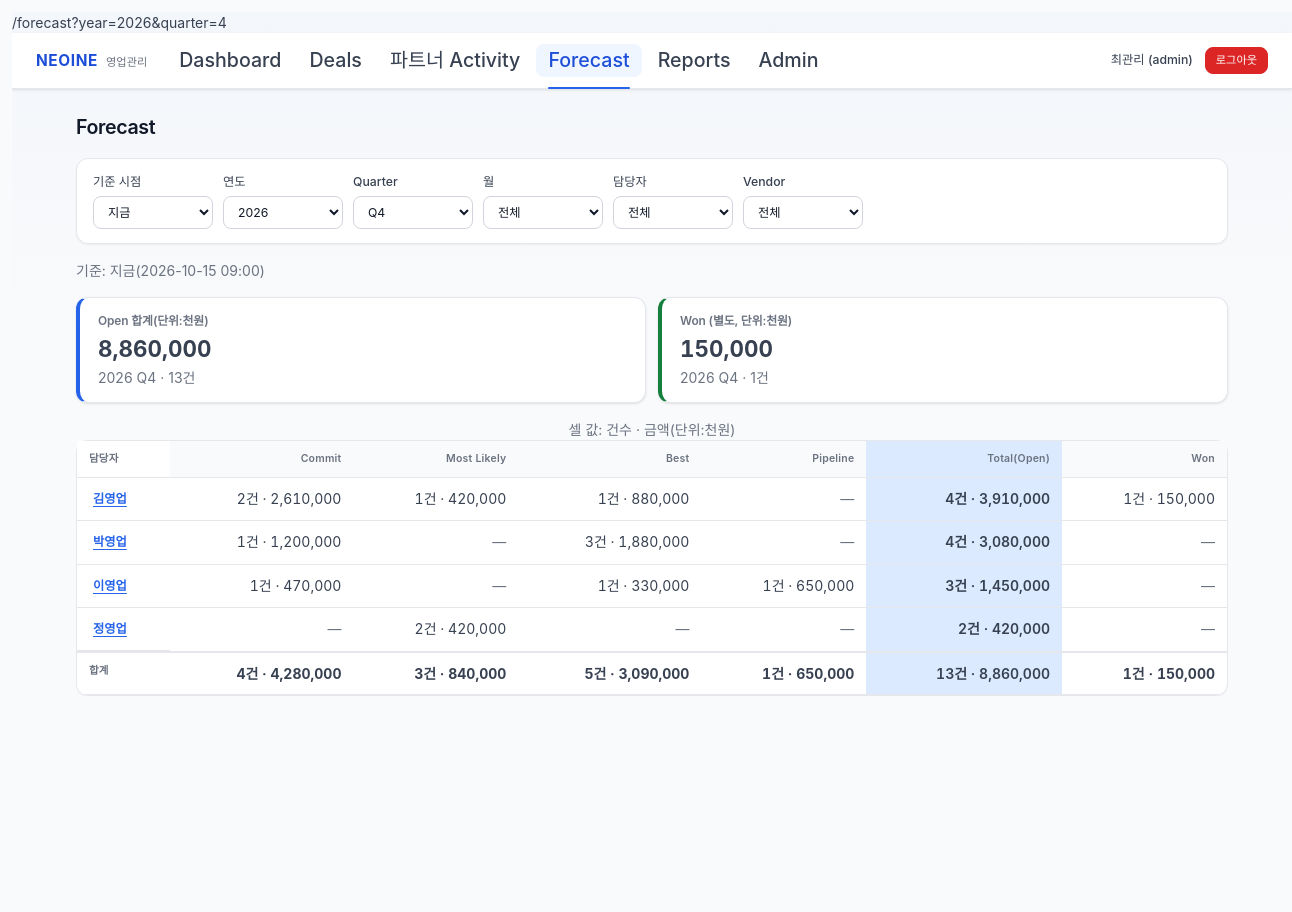
Forecast 요약 표 › T-FC-01 Expected Close 기준 분기 분류: 12/31은 해당 연도 Q4, 1/1은 다음 해 Q1
Check: the column heading "합계" is shown, box [77,652,170,696]
Step 1. Select "2027" in the dropdown labelled "연도" → (283, 212), box [223,196,343,229]
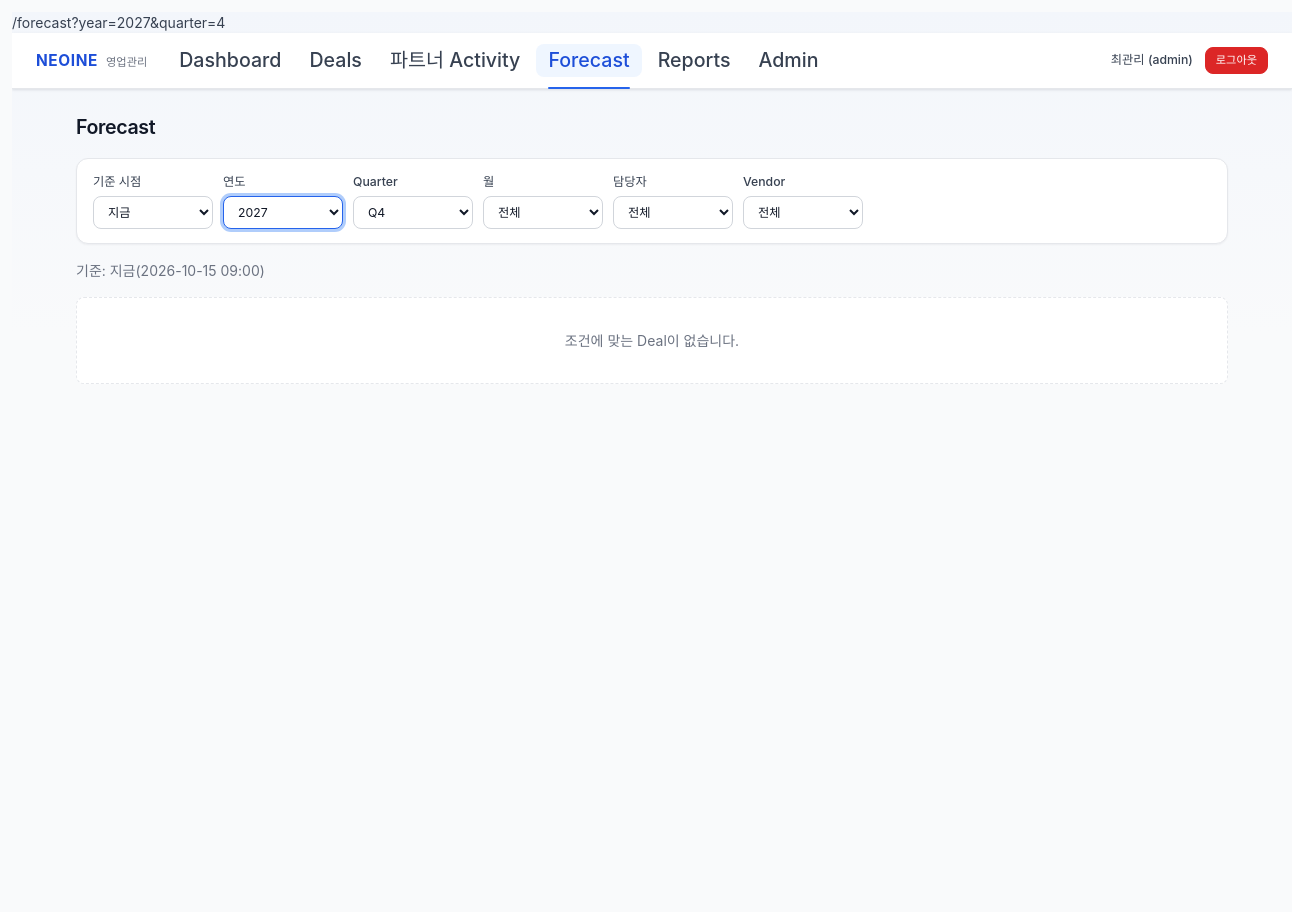
Step 2. Select "Q1" in the dropdown labelled "Quarter" → (413, 212), box [353,196,473,229]
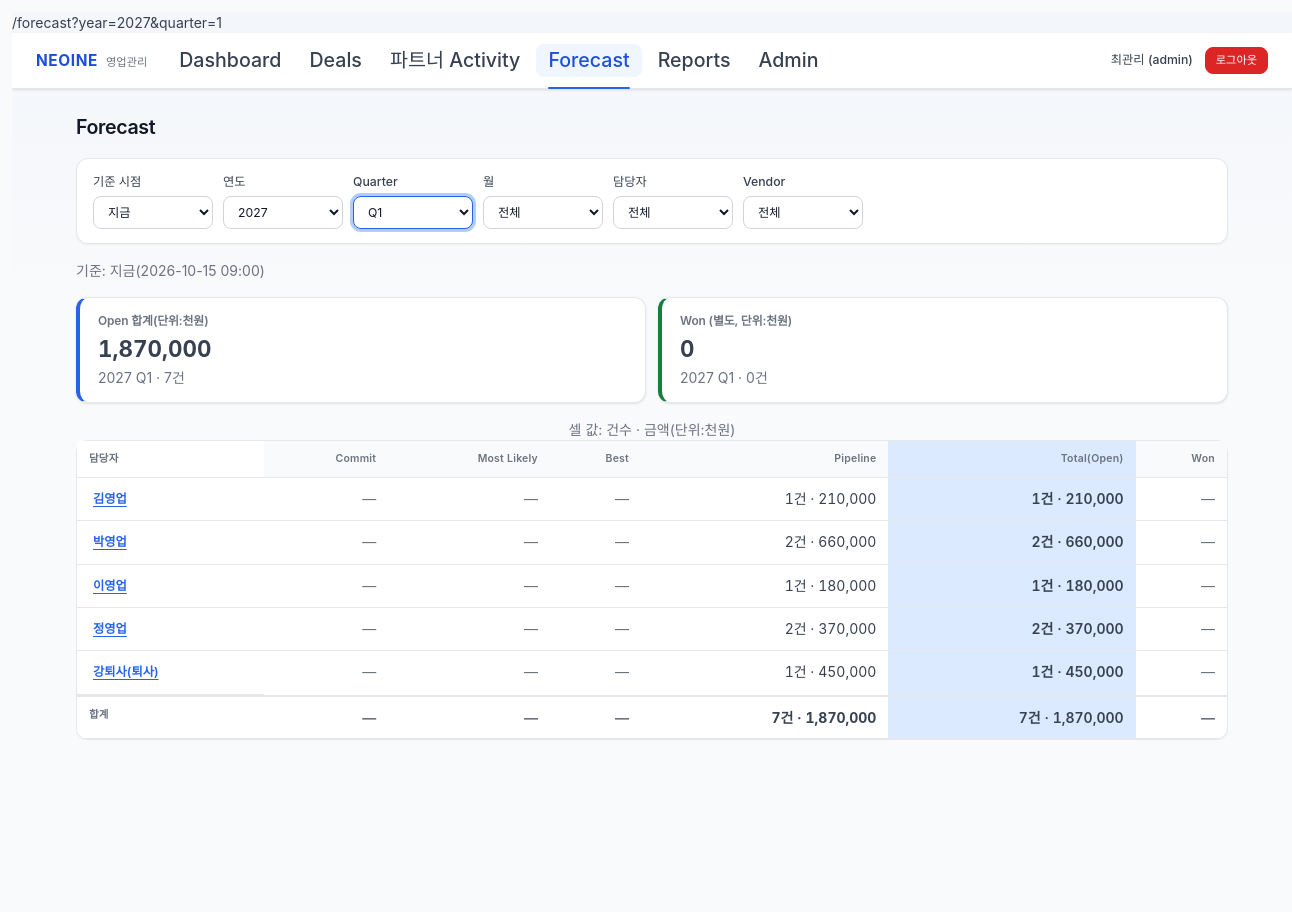
Check: the 1st cell "1건 · 180,000" is shown, box [641,565,888,608]
